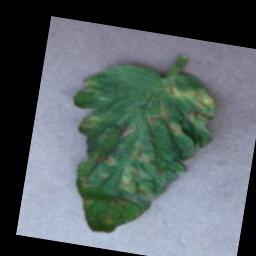Leaf_Mold: (161, 74, 220, 111), (115, 159, 161, 202), (165, 106, 215, 141), (88, 139, 126, 168), (144, 93, 174, 129), (76, 111, 105, 133), (110, 190, 141, 209), (131, 140, 155, 164), (112, 121, 137, 144), (72, 171, 95, 192)
